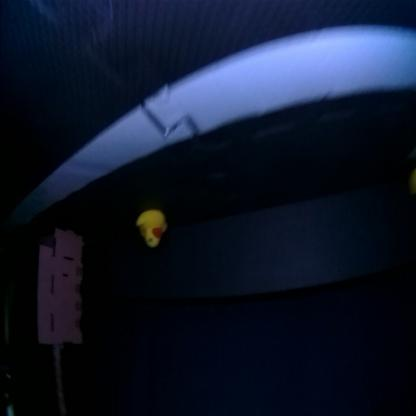Duckie: (139, 210, 167, 248)
